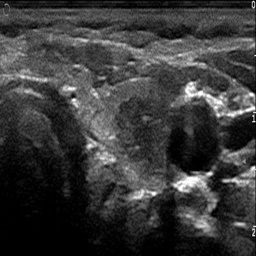mass: (116, 97, 153, 160)
